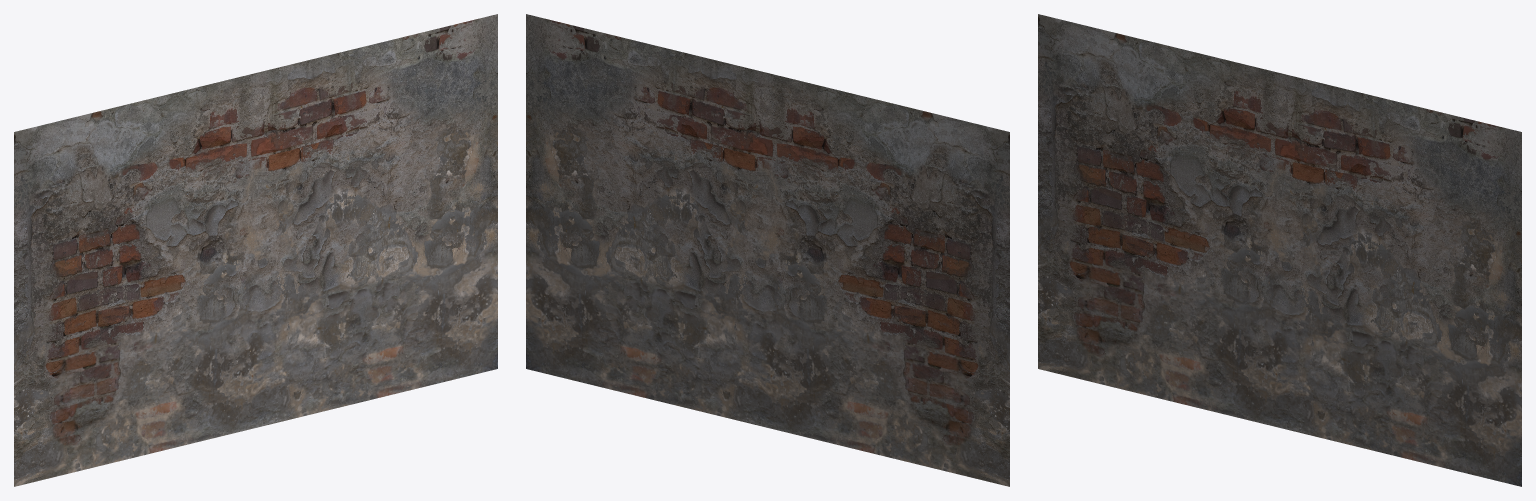
File: SM_ChapelWall_03_03.fbx
3 views of the same model, side by side, from view 1: azimuth 30°, elevation 25°; view 2: azimuth 150°, elevation 25°; view 3: azimuth 330°, elevation 25° (orthographic).
Visible parts, largest first — view 1: sm_ChapelWall_03_03_LOD0; view 2: sm_ChapelWall_03_03_LOD0; view 3: sm_ChapelWall_03_03_LOD0.
Part boxes in pixels (x1,y1,x2,y2): sm_ChapelWall_03_03_LOD0: (14,14,497,486); sm_ChapelWall_03_03_LOD0: (526,14,1009,486); sm_ChapelWall_03_03_LOD0: (1038,14,1521,486).
Bounding box in the file's own units: 5.06e-05 × 250 × 175.
